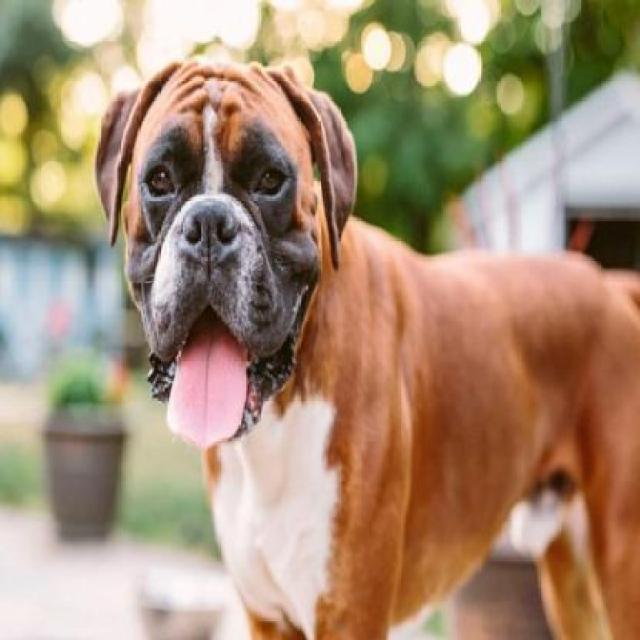animals: (89, 51, 478, 617)
